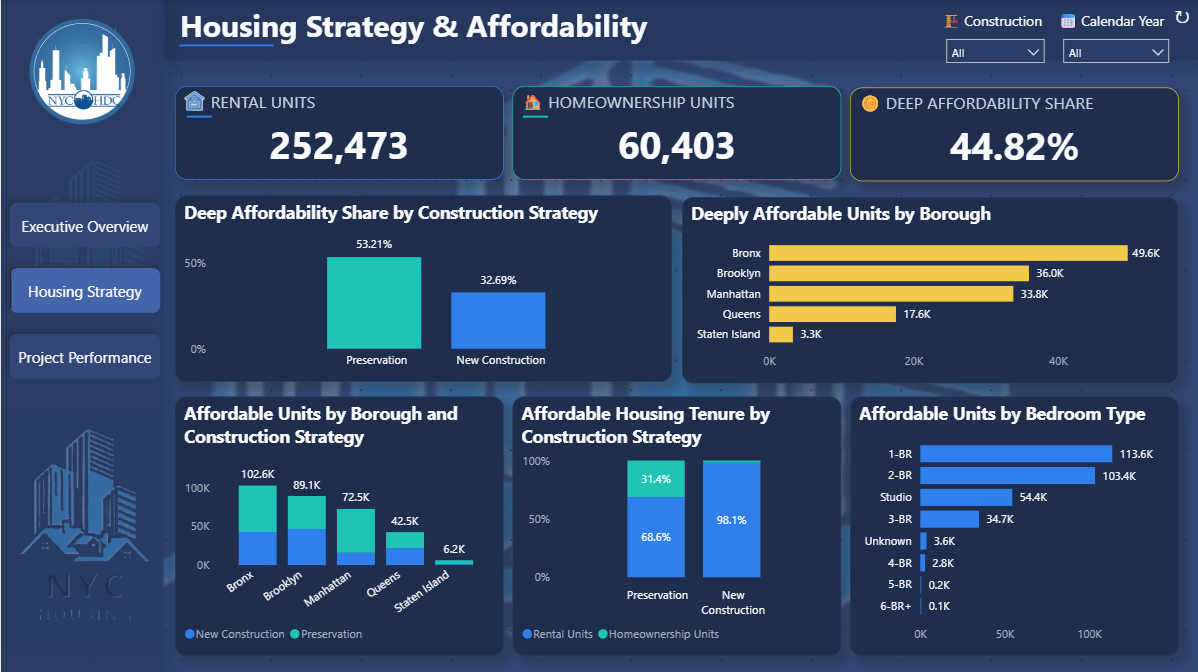

Layout of this report page (visuals, bound fields, positions):
{"tool":"powerbi","page":{"name":"Housing Strategy","canvas":[1280,720],"ordinal":1},"visuals":[{"type":"image","box":[0,38.4,185.6,416],"z":0},{"type":"shape","box":[174.4,0,1105.6,65.6],"z":1000},{"type":"textbox","box":[185.6,0,569.4,55.7],"z":1000,"group":"g4"},{"type":"group","id":"g1","title":"Group 2","box":[185.6,92.8,350,100],"z":1000,"group":"g7"},{"type":"group","id":"g2","title":"Group 6","box":[905.6,94.4,350.4,100.8],"z":2000},{"type":"shape","box":[0,0,174.4,720],"z":3000,"group":"g6"},{"type":"group","id":"g3","title":"Group 3","box":[545.6,92.8,350.4,99.2],"z":3000},{"type":"group","id":"g4","title":"Group 7","box":[185.6,0,569.6,57.6],"z":4000},{"type":"card","title":"🏢 RENTAL UNITS","fields":{"Values":["affordable_housing housing_projects.Rental Units"]},"box":[185.6,92.8,350.7,99.8],"z":5000,"group":"g1"},{"type":"clusteredColumnChart","title":"Deep Affordability Share by Construction Strategy","fields":{"Y":["affordable_housing housing_projects.Deep Affordability Share"],"Category":["affordable_housing housing_projects.reporting_construction_type"]},"box":[185.6,208.8,530,198.4],"z":5000},{"type":"card","title":"🏠 HOMEOWNERSHIP UNITS","fields":{"Values":["affordable_housing housing_projects.Homeownership Units"]},"box":[545.6,92.8,350.7,100],"z":6000,"group":"g3"},{"type":"clusteredBarChart","title":"Deeply Affordable Units by Borough","fields":{"Y":["affordable_housing housing_projects.Deeply Affordable Units"],"Category":["affordable_housing housing_projects.borough"]},"box":[726.4,210.4,529.6,198.4],"z":6000},{"type":"shape","box":[190.2,42.4,100.2,12.7],"z":7000,"group":"g4"},{"type":"columnChart","title":"Affordable Units by Borough and Construction Strategy","fields":{"Category":["affordable_housing housing_projects.borough"],"Y":["affordable_housing housing_projects.Affordable Units"],"Series":["affordable_housing housing_projects.reporting_construction_type"]},"box":[185.6,424,350.4,276.8],"z":7000},{"type":"hundredPercentStackedColumnChart","title":"Affordable Housing Tenure by Construction Strategy","fields":{"Category":["affordable_housing housing_projects.reporting_construction_type"],"Y":["affordable_housing housing_projects.Rental Units","affordable_housing housing_projects.Homeownership Units"]},"box":[545.6,424,350.4,276.8],"z":8000},{"type":"clusteredBarChart","title":"Affordable Units by Bedroom Type","fields":{"Y":["Bedroom Composition.Bedroom Units"],"Category":["Bedroom Composition.Bedroom Type"]},"box":[905.6,424,350.4,276.8],"z":9000},{"type":"group","id":"g5","title":"Group 1","box":[185.6,92.8,350,100],"z":10000},{"type":"group","id":"g6","title":"Group 10","box":[0,0,179.2,720],"z":11000},{"type":"image","box":[0,416,176,304],"z":12000},{"type":"slicer","title":"📅 Calendar Year","fields":{"Values":["Date.Year"]},"box":[1123.2,12.8,132.8,60.8],"z":13000},{"type":"actionButton","box":[1240,0,40,33.6],"z":14000},{"type":"slicer","title":"🏗️ Construction","fields":{"Values":["affordable_housing housing_projects.reporting_construction_type"]},"box":[998.4,12.8,124.8,60.8],"z":15000},{"type":"shape","box":[198.1,108.7,26.5,33.3],"z":15000,"group":"g1"},{"type":"image","box":[190.1,93.2,31.4,31.9],"z":15005,"group":"g7"},{"type":"shape","box":[556.8,108.7,26.5,33.4],"z":16000,"group":"g3"},{"type":"group","id":"g7","title":"Group 4","box":[185.6,92.8,350,100],"z":16001,"group":"g5"},{"type":"pageNavigator","box":[0,208,179.2,208],"z":17000,"group":"g6"},{"type":"image","box":[4.8,3.2,171.2,151.8],"z":17750,"group":"g8"},{"type":"group","id":"g8","title":"Group 8","box":[4.8,3.2,171.2,151.8],"z":18000,"group":"g6"},{"type":"image","box":[42.1,89.1,94.1,36.5],"z":19000,"group":"g8"},{"type":"shape","box":[915.4,110.3,26.5,33.3],"z":19000,"group":"g2"},{"type":"card","title":"🪙 DEEP AFFORDABILITY SHARE","fields":{"Values":["affordable_housing housing_projects.Deep Affordability Share"]},"box":[905.6,94.4,350.7,99.8],"z":19500,"group":"g2"}]}

Visuals, with their boxes in screenshot pixels (x1, y1, x2, y2), scaled from the page's 1280x720 canvas onto the 1198x672 screenshot:
image: bbox=(0, 36, 174, 424)
shape: bbox=(163, 0, 1197, 61)
textbox: bbox=(174, 0, 707, 52)
"Group 2" group: bbox=(174, 87, 501, 180)
"Group 6" group: bbox=(848, 88, 1176, 182)
shape: bbox=(0, 0, 163, 671)
"Group 3" group: bbox=(511, 87, 839, 179)
"Group 7" group: bbox=(174, 0, 707, 54)
"🏢 RENTAL UNITS" card: bbox=(174, 87, 502, 180)
"Deep Affordability Share by Construction Strategy" clusteredColumnChart: bbox=(174, 195, 670, 380)
"🏠 HOMEOWNERSHIP UNITS" card: bbox=(511, 87, 839, 180)
"Deeply Affordable Units by Borough" clusteredBarChart: bbox=(680, 196, 1176, 382)
shape: bbox=(178, 40, 272, 51)
"Affordable Units by Borough and Construction Strategy" columnChart: bbox=(174, 396, 502, 654)
"Affordable Housing Tenure by Construction Strategy" hundredPercentStackedColumnChart: bbox=(511, 396, 839, 654)
"Affordable Units by Bedroom Type" clusteredBarChart: bbox=(848, 396, 1176, 654)
"Group 1" group: bbox=(174, 87, 501, 180)
"Group 10" group: bbox=(0, 0, 168, 671)
image: bbox=(0, 388, 165, 671)
"📅 Calendar Year" slicer: bbox=(1051, 12, 1176, 69)
actionButton: bbox=(1161, 0, 1197, 31)
"🏗️ Construction" slicer: bbox=(934, 12, 1051, 69)
shape: bbox=(185, 101, 210, 133)
image: bbox=(178, 87, 207, 117)
shape: bbox=(521, 101, 546, 133)
"Group 4" group: bbox=(174, 87, 501, 180)
pageNavigator: bbox=(0, 194, 168, 388)
image: bbox=(4, 3, 165, 145)
"Group 8" group: bbox=(4, 3, 165, 145)
image: bbox=(39, 83, 127, 117)
shape: bbox=(857, 103, 882, 134)
"🪙 DEEP AFFORDABILITY SHARE" card: bbox=(848, 88, 1176, 181)
